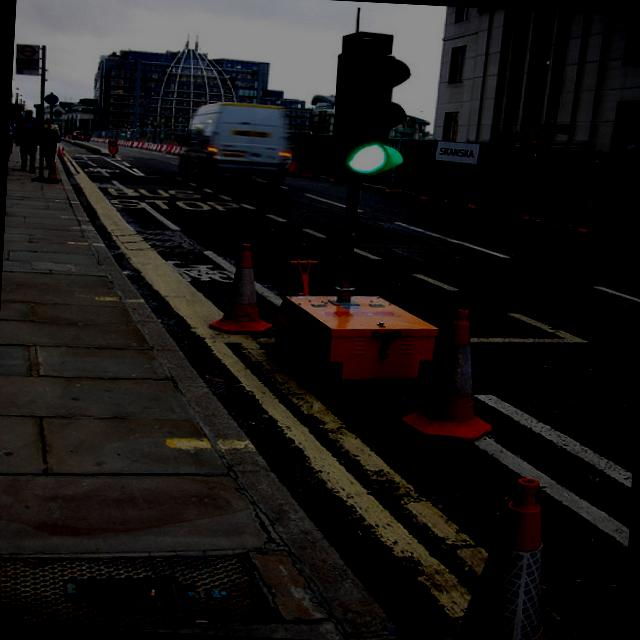Vehicle: (180, 100, 296, 188)
